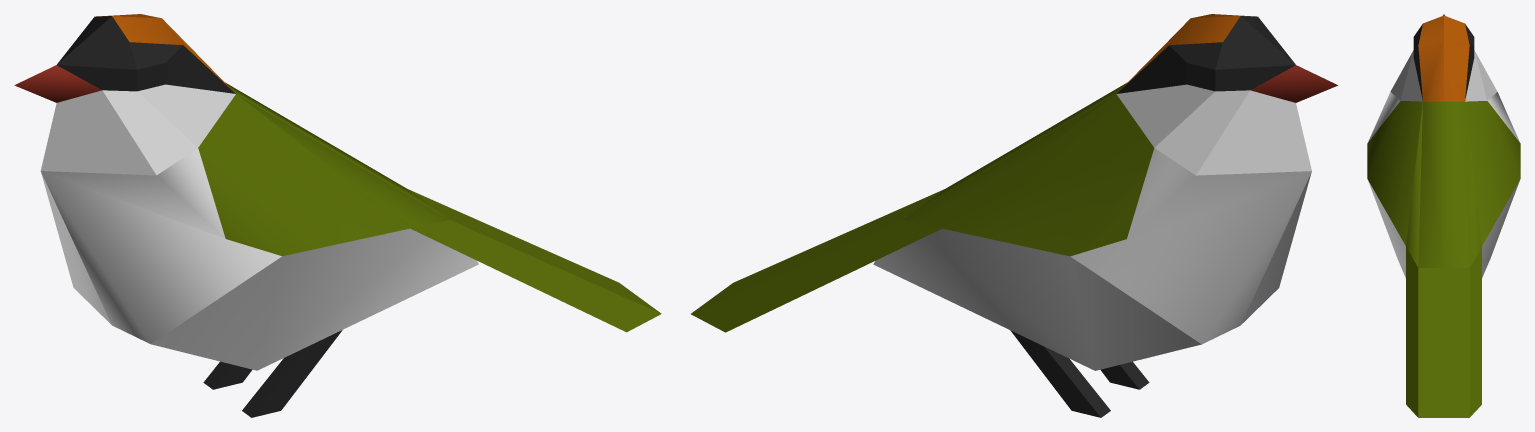
The model's file is arremon.fbx.
3 renders of one model, left to right at view 1: azimuth 30°, elevation 25°; view 2: azimuth 150°, elevation 25°; view 3: azimuth 270°, elevation 25°, orthographic. The views are drawn at different scales.
Visible parts, largest first — view 1: polySurface12, polySurface16, pCube2, pasted__pCube1; view 2: polySurface12, polySurface16, pasted__pCube1, pCube2; view 3: polySurface12, polySurface16.
Part boxes in pixels (<box>): polySurface12: <box>14,14,478,370</box>; polySurface16: <box>238,95,661,332</box>; pCube2: <box>242,330,342,417</box>; pasted__pCube1: <box>203,361,252,389</box>; polySurface12: <box>873,14,1337,370</box>; polySurface16: <box>691,95,1114,332</box>; pasted__pCube1: <box>1010,330,1110,417</box>; pCube2: <box>1100,361,1149,389</box>; polySurface12: <box>1367,14,1520,277</box>; polySurface16: <box>1406,103,1481,417</box>.
Size of the model in its own units: 18.81 by 11.83 by 6.62.
